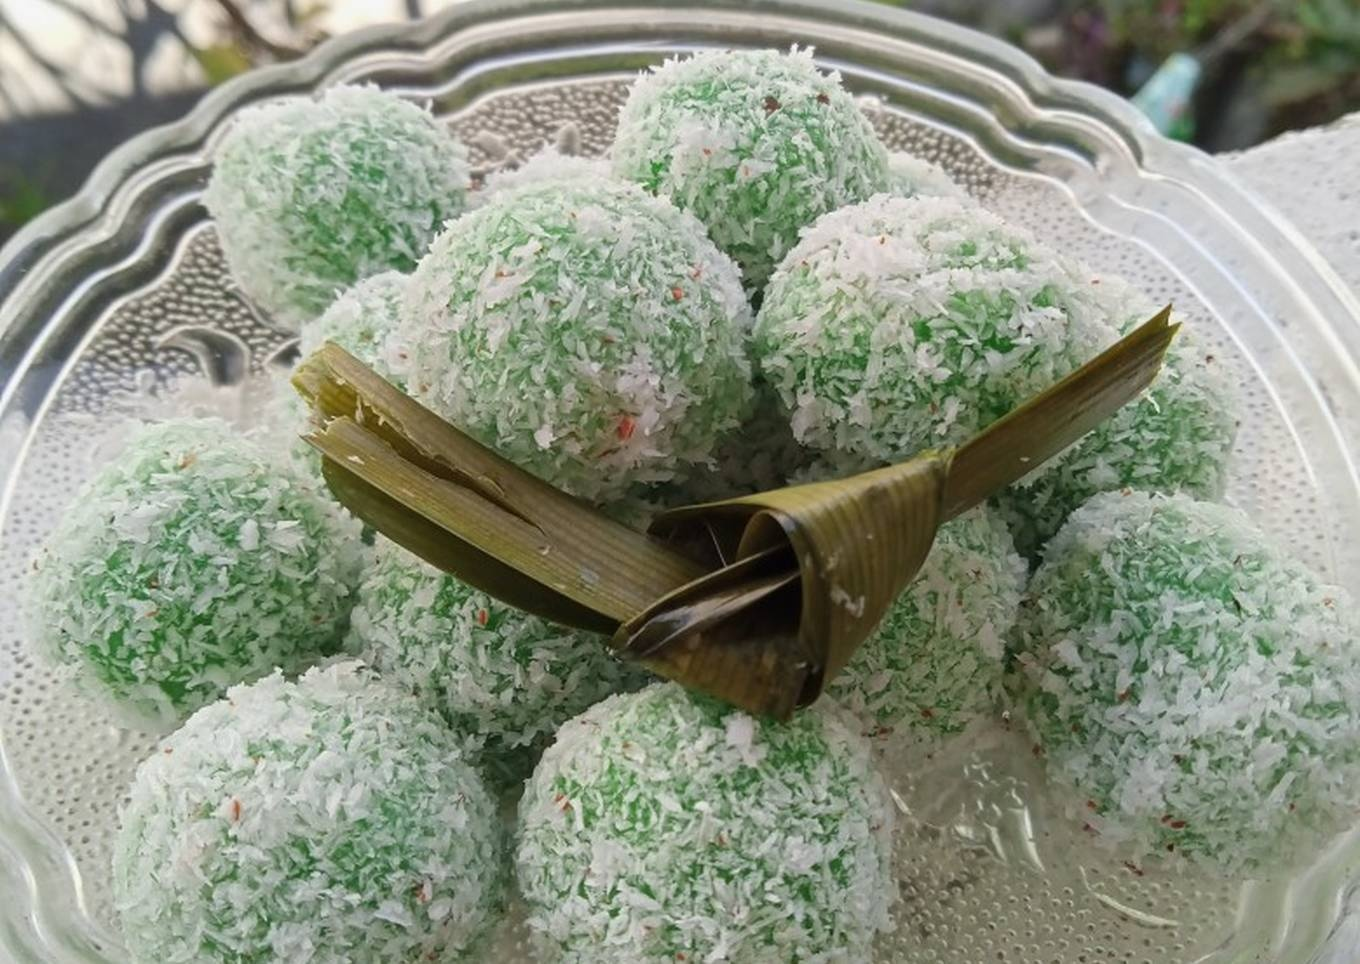klepon: (353, 163, 754, 514), (1054, 543, 1360, 893), (734, 195, 1071, 452)
